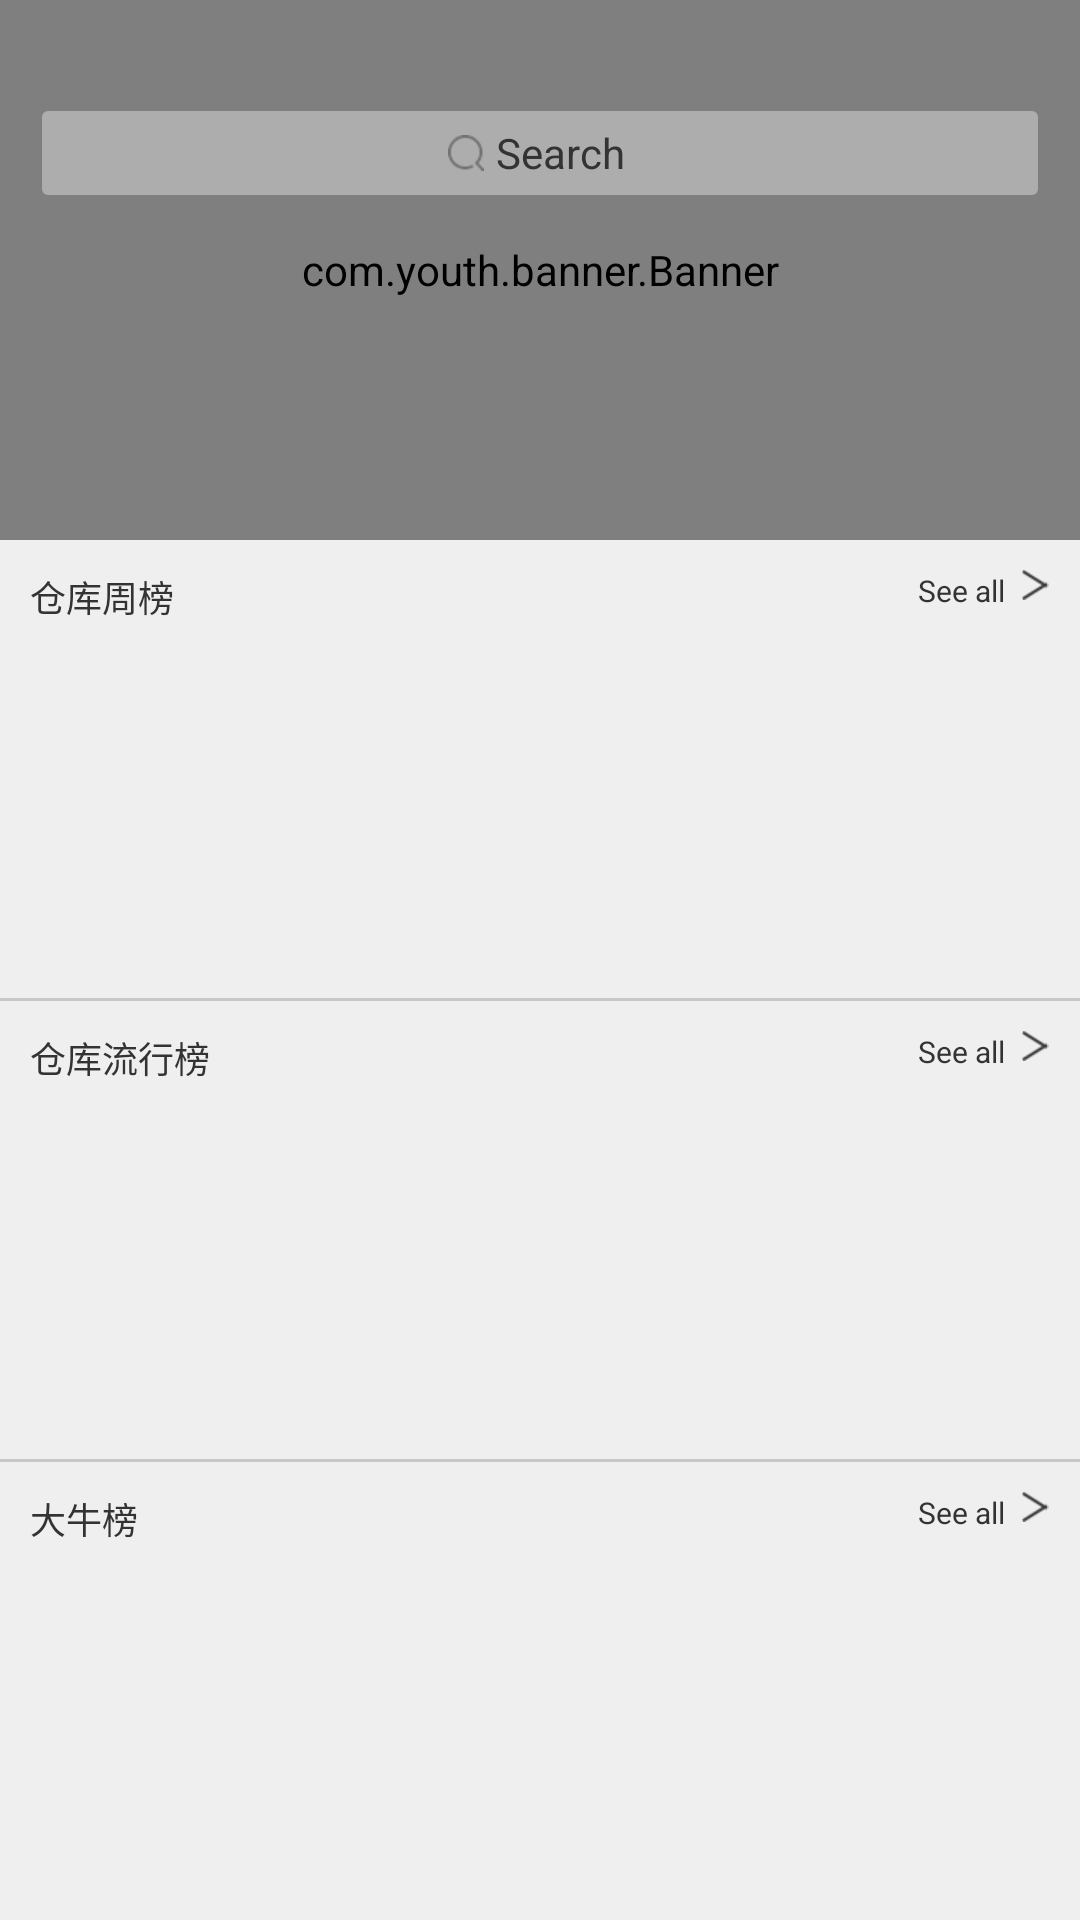

Named icons in this screenshot (1080px×1920px) and their bounding boxes, [x1, y1, x2, y2]:
right arrow: [1022, 570, 1049, 600], [1022, 1031, 1049, 1061], [1022, 1492, 1049, 1522]
